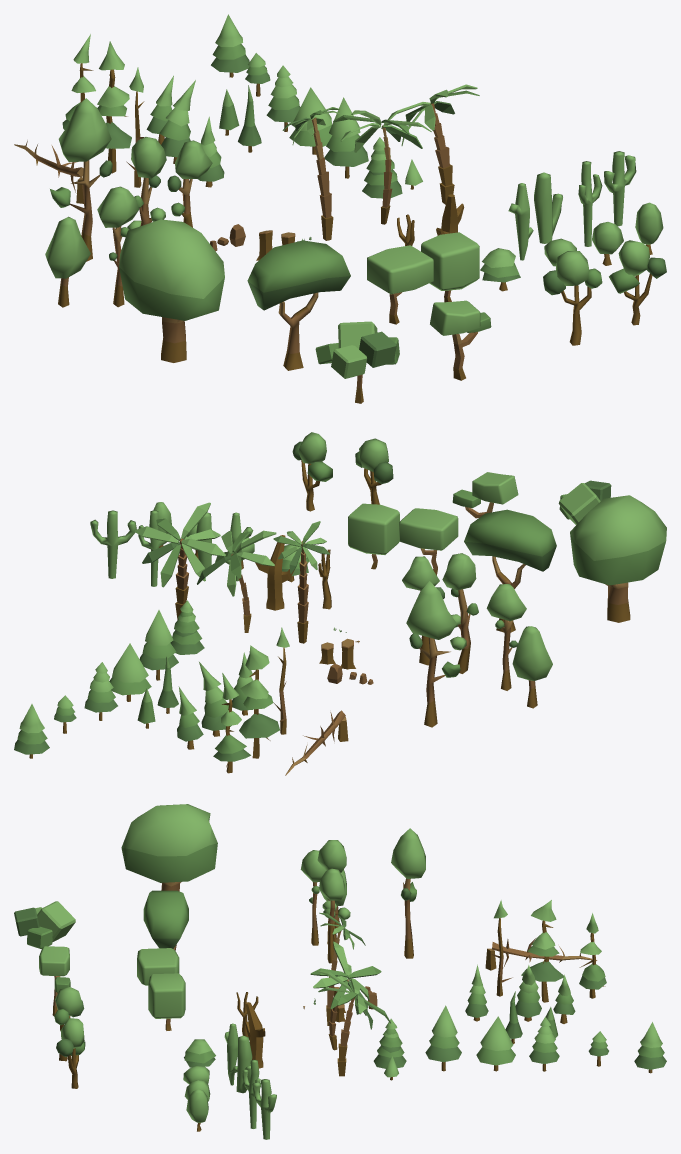
The model's file is SpringA.fbx.
The picture shows the model from 3 angles, top to bottom: view 1: azimuth 30°, elevation 25°; view 2: azimuth 150°, elevation 25°; view 3: azimuth 270°, elevation 25°; orthographic projection. The views are drawn at different scales.
Visible parts, largest first — view 1: Tree_Gen_A, Tree_Gen_B, Tree_Gen7, Tree_Gen, tree_Gen, tree_Gen1, Tree_Gen2, Tree_Gen1, tree_Maple4, Tree_Gen3, Tree_Palm_C, Tree_Gen9 (+25 smaller); view 2: Tree_Gen_A, Tree_Gen_B, Tree_Palm_C, Tree_Gen7, tree_Gen1, tree_Gen, Tree_Gen9, Tree_Fir, Tree_palm_B, Tree_Palm_A, tree_Maple4, Tree_Gen1 (+20 smaller); view 3: Tree_Gen_A, Tree_Gen_B, Tree_Gen7, Tree_Gen, tree_Gen1, Tree_palm_B, Tree_Fir, Tree_Palm_C, Gen_Tree_Fir54, Gen_Tree_Fir59, tree_Gen, Tree_Gen1 (+22 smaller).
Part boxes in pixels (x1=…): Tree_Gen_A: x1=119, y1=219, x2=224, y2=362; Tree_Gen_B: x1=247, y1=240, x2=350, y2=370; Tree_Gen7: x1=50, y1=98, x2=112, y2=261; Tree_Gen: x1=315, y1=321, x2=399, y2=403; tree_Gen: x1=367, y1=245, x2=433, y2=324; tree_Gen1: x1=421, y1=232, x2=479, y2=302; Tree_Gen2: x1=543, y1=251, x2=602, y2=345; Tree_Gen1: x1=430, y1=300, x2=491, y2=380; tree_Maple4: x1=45, y1=216, x2=90, y2=307; Tree_Gen3: x1=609, y1=240, x2=666, y2=325; Tree_Palm_C: x1=387, y1=84, x2=479, y2=204; Tree_Gen9: x1=127, y1=137, x2=166, y2=229; Tree_Gen_A: x1=570, y1=495, x2=666, y2=622; Tree_Gen_B: x1=464, y1=509, x2=556, y2=632; Tree_Palm_C: x1=134, y1=502, x2=225, y2=619; Tree_Gen7: x1=406, y1=581, x2=460, y2=727; tree_Gen1: x1=348, y1=503, x2=399, y2=569; tree_Gen: x1=399, y1=508, x2=458, y2=575; Tree_Gen9: x1=442, y1=553, x2=478, y2=673; Tree_Fir: x1=239, y1=645, x2=279, y2=758; Tree_palm_B: x1=197, y1=530, x2=276, y2=632; Tree_Palm_A: x1=273, y1=521, x2=329, y2=643; tree_Maple4: x1=512, y1=626, x2=552, y2=708; Tree_Gen1: x1=452, y1=472, x2=518, y2=518; Tree_Gen_A: x1=121, y1=804, x2=217, y2=891; Tree_Gen_B: x1=143, y1=890, x2=188, y2=950; Tree_Gen7: x1=391, y1=828, x2=425, y2=958; Tree_Gen: x1=14, y1=901, x2=75, y2=948; tree_Gen1: x1=148, y1=973, x2=185, y2=1030; Tree_palm_B: x1=310, y1=941, x2=381, y2=1050; Tree_Fir: x1=521, y1=900, x2=563, y2=1002; Tree_Palm_C: x1=316, y1=970, x2=390, y2=1076; Gen_Tree_Fir54: x1=425, y1=1005, x2=461, y2=1071; Gen_Tree_Fir59: x1=476, y1=1016, x2=515, y2=1071; tree_Gen: x1=137, y1=948, x2=179, y2=985; Tree_Gen1: x1=39, y1=946, x2=70, y2=1016.
Size of the model in its own units: 26.16 by 7.74 by 32.17.
